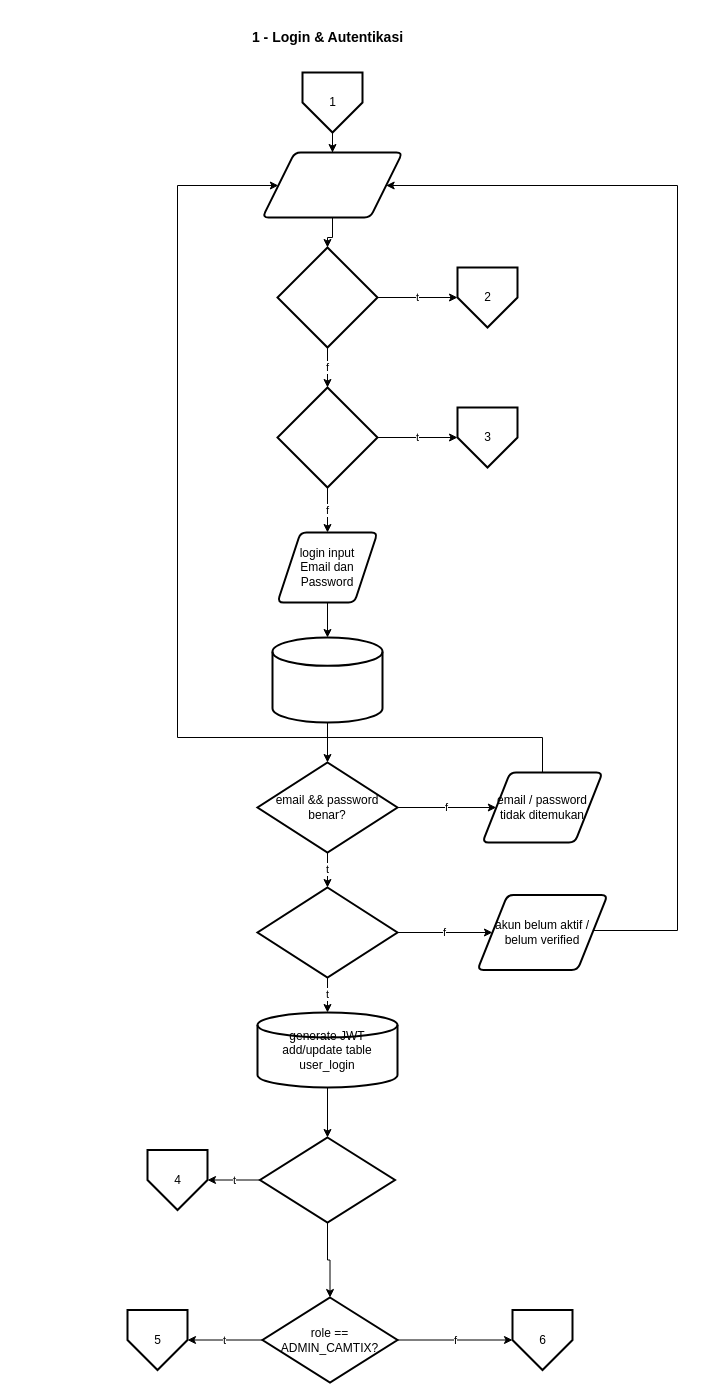
This 703x1400 diagram has some shape labels left out. Here are the shapes that lost their labels. From the top down, the centre of each, then its label:
[332,184]: tampilan login -back -register
[327,297]: klik == back?
[327,437]: klik == register?
[327,679]: read data user di table users
[327,932]: akun aktif & verified?
[327,1179]: role == ADMIN_APLIKASI?
